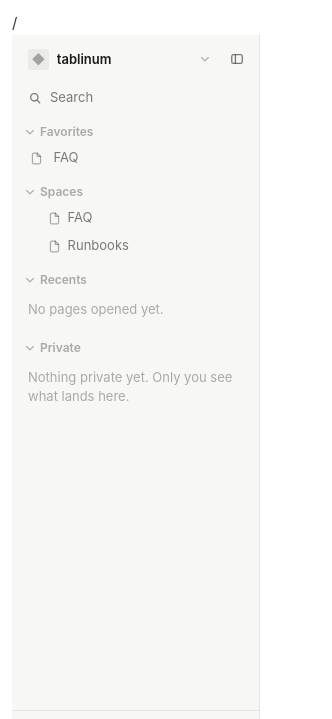
Scenario: the favorites bucket › folds the bucket away and back
This screenshot has width=332, height=719.
Expected: the 1st text "FAQ" is shown, top-left (54, 149), bottom-right (79, 165)
What coordinates should you click on to do the following:
click the button "Favorites"
I would click on:
 (136, 132)
Its box is top-left (20, 120), bottom-right (251, 144).
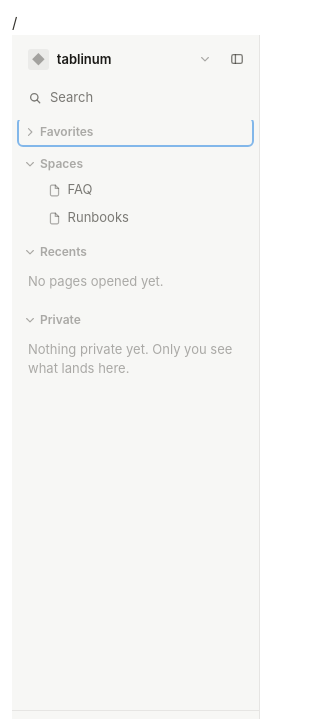
What coordinates should you click on to do the following:
click the button "Favorites"
I would click on:
 (136, 132)
Its box is top-left (20, 120), bottom-right (251, 144).
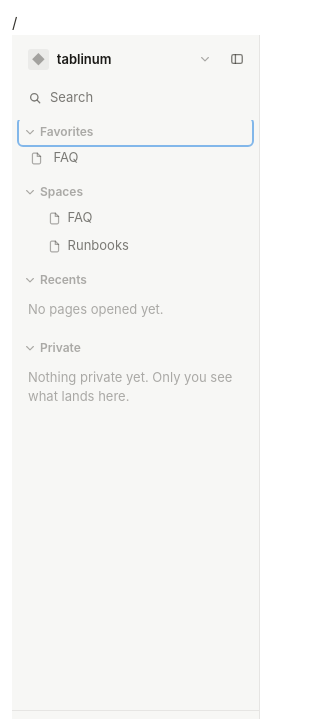
Expected: the 1st text "FAQ" is shown, top-left (54, 149), bottom-right (79, 165)
